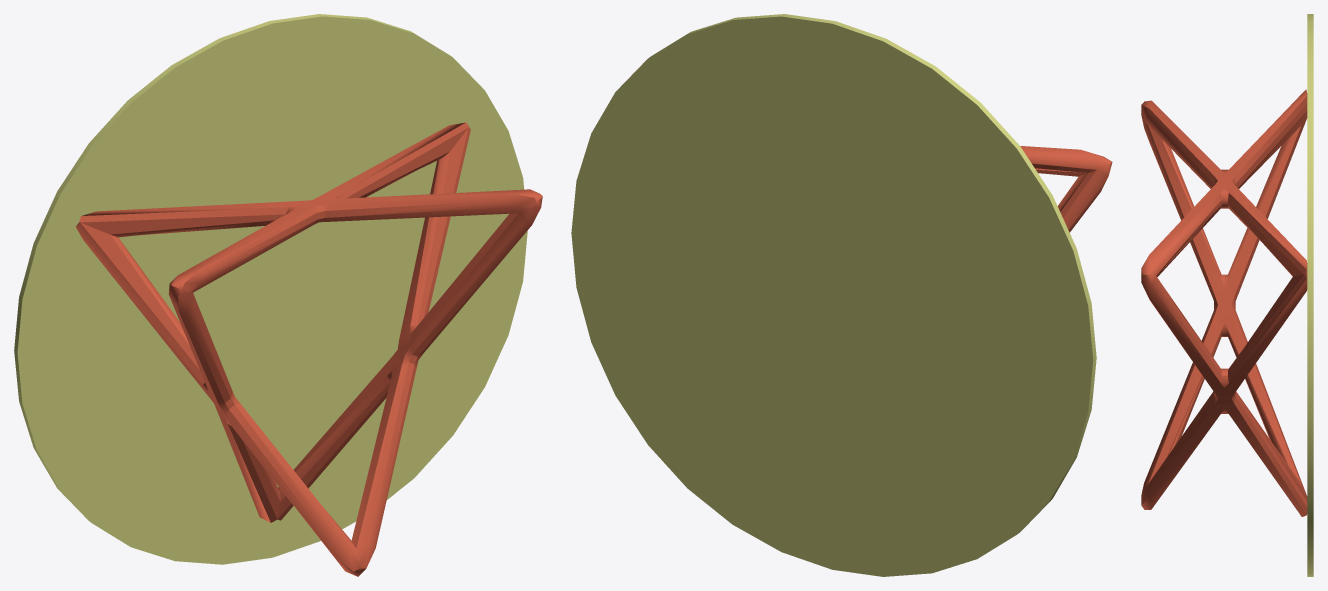
Rendered from cofee_table.fbx.
3 views of the same model, side by side, from view 1: azimuth 30°, elevation 25°; view 2: azimuth 150°, elevation 25°; view 3: azimuth 270°, elevation 25° (orthographic). The views are drawn at different scales.
Visible parts, largest first — view 1: Plane.019; view 2: Plane.019; view 3: Plane.019.
Part boxes in pixels (x1,y1,x2,y2): Plane.019: (14,14,542,576); Plane.019: (571,14,1112,576); Plane.019: (1141,14,1313,576).
Bounding box in the file's own units: 91.63 × 91.63 × 28.07.
